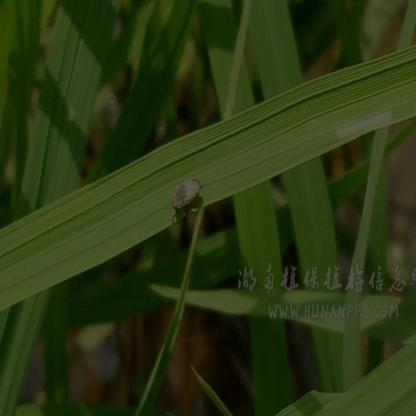rice-bug: (172, 172, 203, 219)
